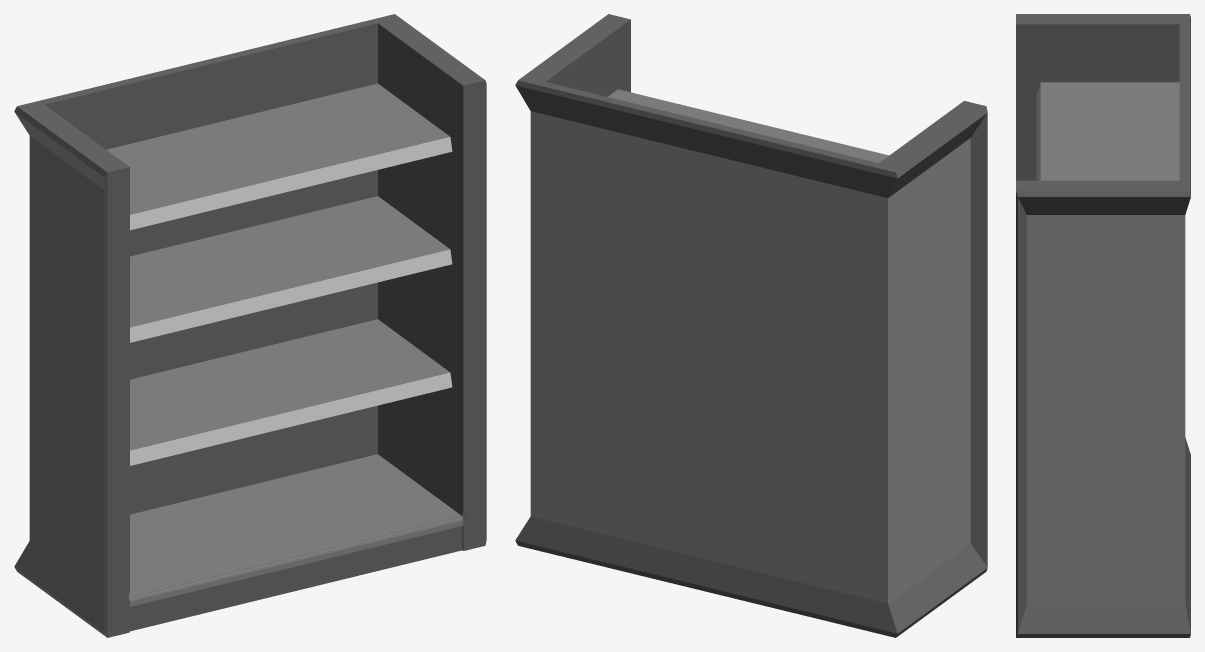
Rendered from End Cap #1.fbx.
The picture shows the model from 3 angles, left to right: view 1: azimuth 30°, elevation 25°; view 2: azimuth 150°, elevation 25°; view 3: azimuth 270°, elevation 25°; orthographic projection. The views are drawn at different scales.
Visible parts, largest first — view 1: End Cap #1; view 2: End Cap #1; view 3: End Cap #1.
Part boxes in pixels (x1,y1,x2,y2): End Cap #1: (14, 14, 486, 637); End Cap #1: (515, 14, 987, 637); End Cap #1: (1016, 14, 1190, 637).
Bounding box in the file's own units: 113 × 132 × 46.81.
Materials: 1 (1 with a texture image).
